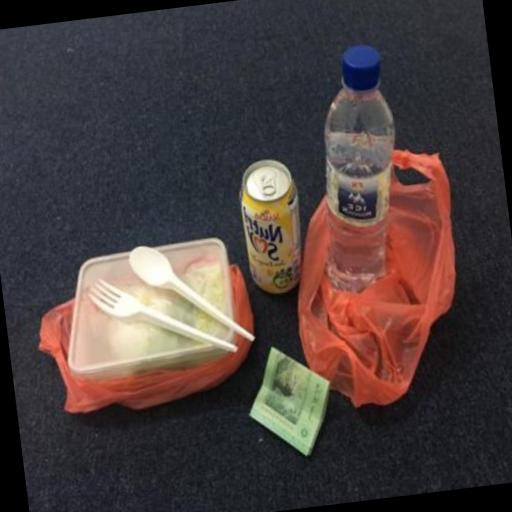Coca: (296, 34, 422, 302)
